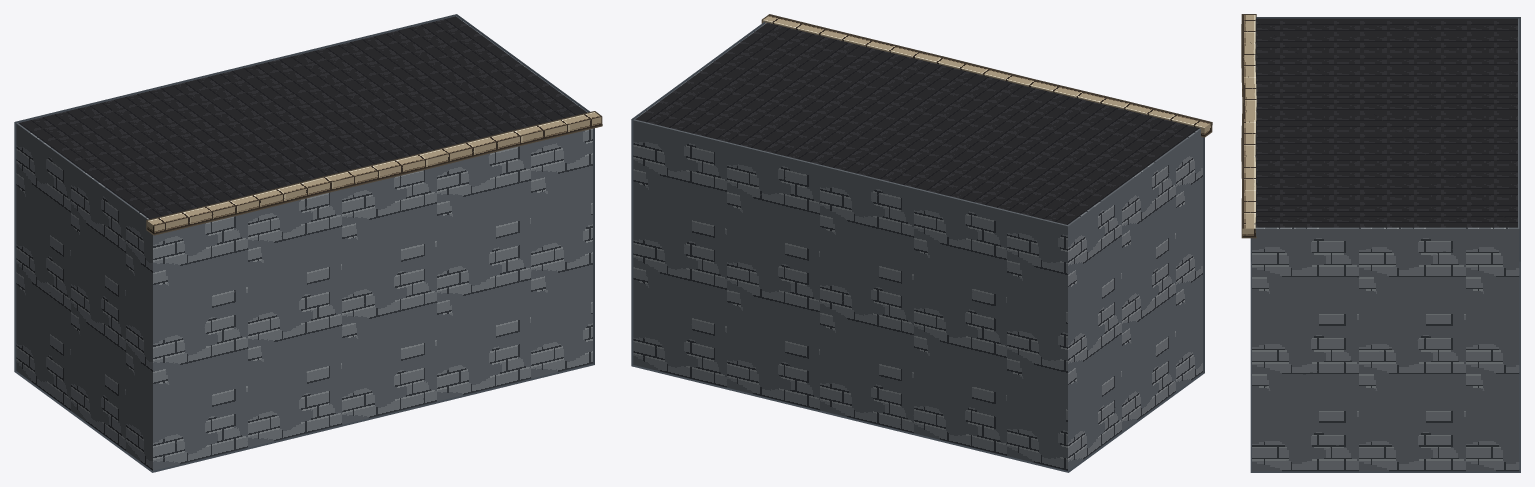
Rendered from Block_7.glb.
3 views of the same model, side by side, from view 1: azimuth 30°, elevation 25°; view 2: azimuth 150°, elevation 25°; view 3: azimuth 270°, elevation 25° (orthographic). The views are drawn at different scales.
Parts seen in each view (by area): view 1: Block_7; view 2: Block_7; view 3: Block_7.
Part boxes in pixels (left/top/right/bottom): Block_7: left=14, top=14, right=602, bottom=472; Block_7: left=631, top=14, right=1212, bottom=472; Block_7: left=1241, top=14, right=1520, bottom=472.
Size of the model in its own units: 18.96 by 10.16 by 10.46.
Materials: 5 (3 with a texture image).
